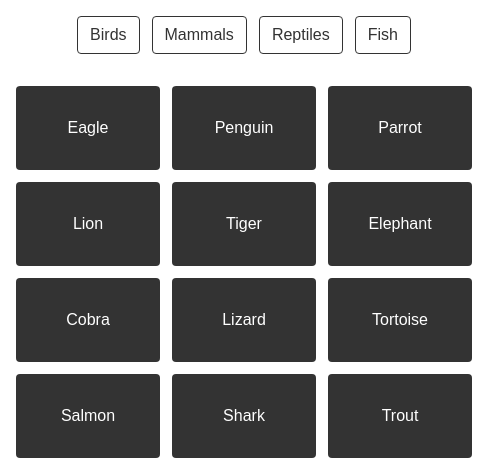
Scenario: App component tests › filters animals by multiple classes when multiple labels are clicked
Click the text "Birds".
click(108, 35)  # box [77,16,140,54]
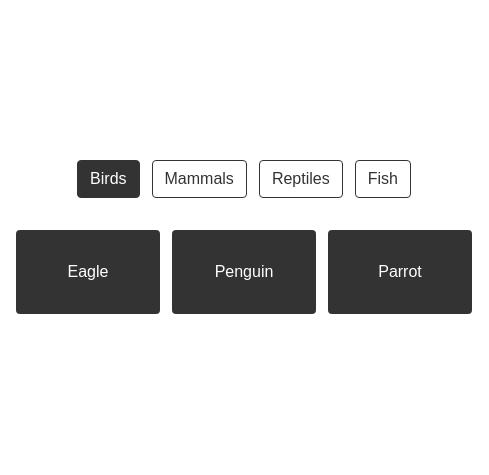
Click the text "Mammals".
click(199, 179)  # box [152,160,247,198]
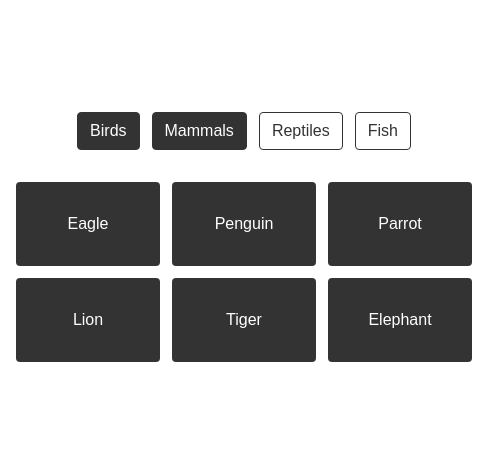
Result: the number of elements with test id "animal-tile-id" is 6 at [16,182,160,266]; [172,182,316,266]; [328,182,472,266]; [16,278,160,362]; [172,278,316,362]; [328,278,472,362]
Result: the text with test id "animal-tile-id" reads "Lion" at [73,311,103,328]
Result: the text with test id "animal-tile-id" reads "Tiger" at [226,311,262,328]
